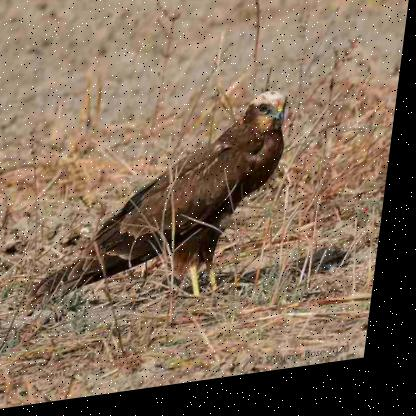Burung: (37, 95, 296, 319)
